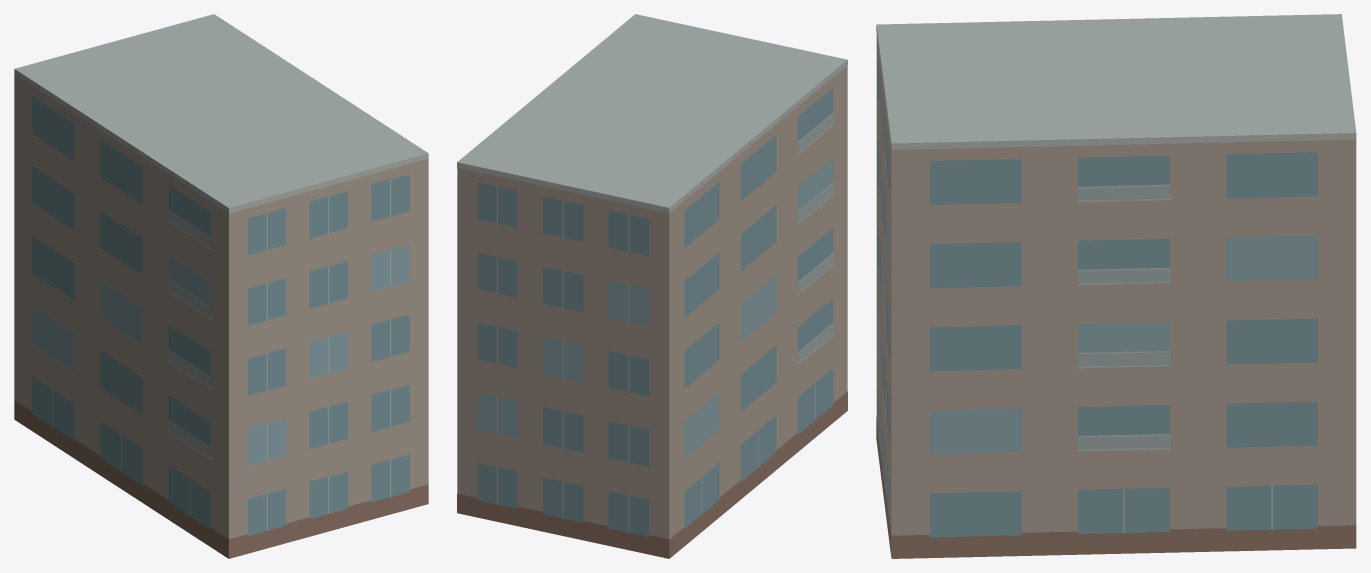
File: survey-upis-33006653.glb
3 views of the same model, side by side, from view 1: azimuth 30°, elevation 25°; view 2: azimuth 150°, elevation 25°; view 3: azimuth 270°, elevation 25° (orthographic). The views are drawn at different scales.
Visible parts, largest first — view 1: survey-upis-33006653.tmp; view 2: survey-upis-33006653.tmp; view 3: survey-upis-33006653.tmp.
Boxes of the visible parts, left/top/right/bottom form: survey-upis-33006653.tmp: left=14, top=14, right=428, bottom=558; survey-upis-33006653.tmp: left=457, top=14, right=847, bottom=558; survey-upis-33006653.tmp: left=876, top=14, right=1356, bottom=558.
Size of the model in its own units: 10.57 by 15.8 by 16.55.
